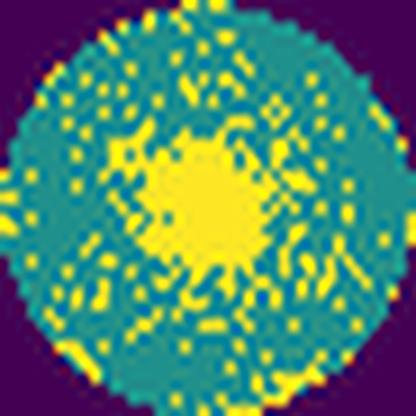Center: (102, 118, 286, 290)
